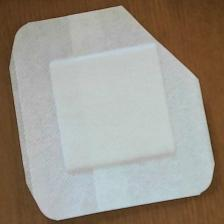Cut: (7, 4, 218, 224)
